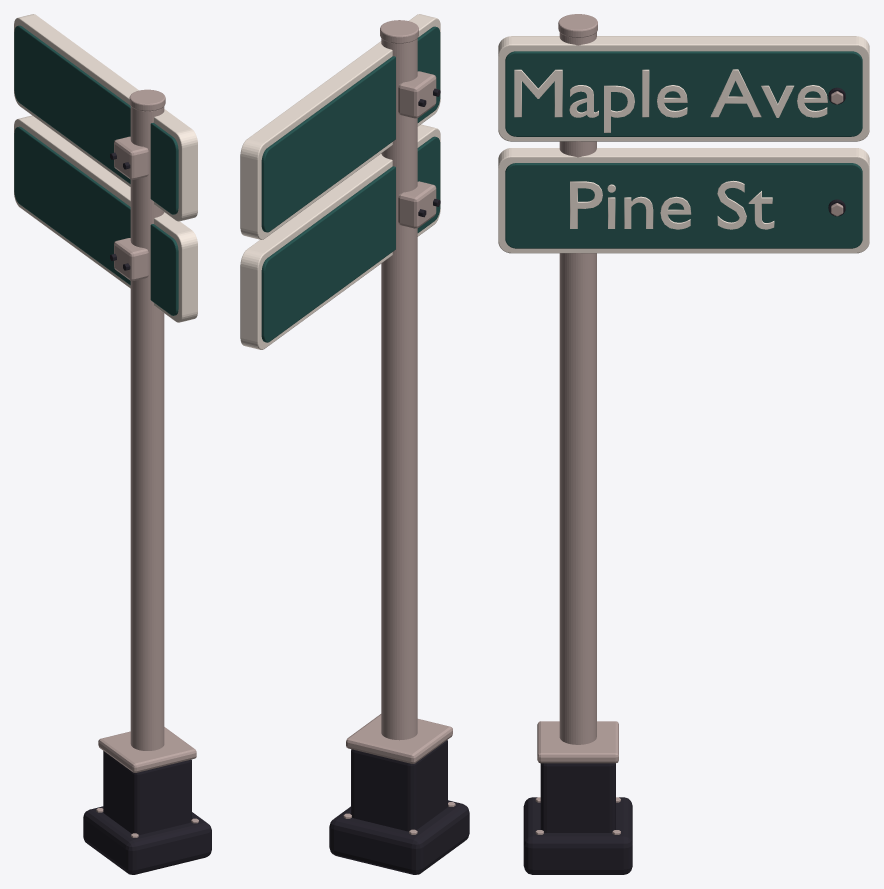
The model's file is prop.street-sign.glb.
3 renders of one model, left to right at view 1: azimuth 30°, elevation 25°; view 2: azimuth 150°, elevation 25°; view 3: azimuth 270°, elevation 25°, orthographic. The views are drawn at different scales.
Parts seen in each view (by area): view 1: object 2, body; view 2: object 2, body; view 3: object 2, body.
Part boxes in pixels (x1,y1,x2,y2): object 2: (14, 14, 211, 874); body: (96, 89, 198, 837); object 2: (240, 14, 469, 874); body: (343, 20, 455, 834); object 2: (498, 36, 869, 874); body: (535, 14, 843, 834).
Bounding box in the file's own units: 0.34 × 2.87 × 1.16.
